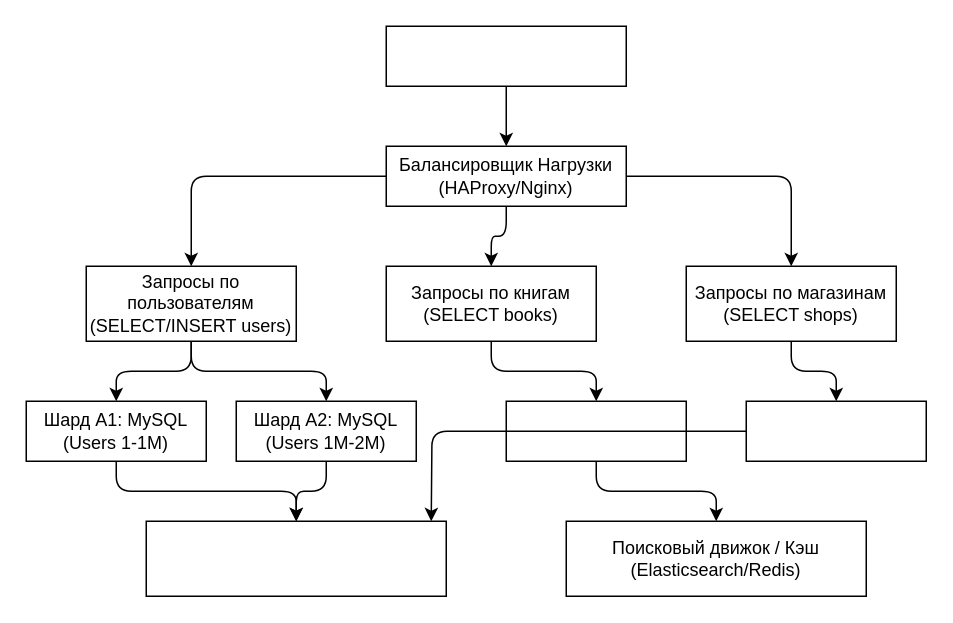
The diagram is 953 pixels wide and 623 high, and some of its shapes have lost their labels. The shapes that lost their labels are listed below. From the top down, each one's centre as x and y in pixels, then its label:
the point at 505,55: Интернет (Пользователи)
the point at 595,430: Сервер Б: MySQL (Книги)
the point at 835,430: Сервер В: MySQL (Магазины)
the point at 295,558: Сервер приложений (Знает карту шардов)
